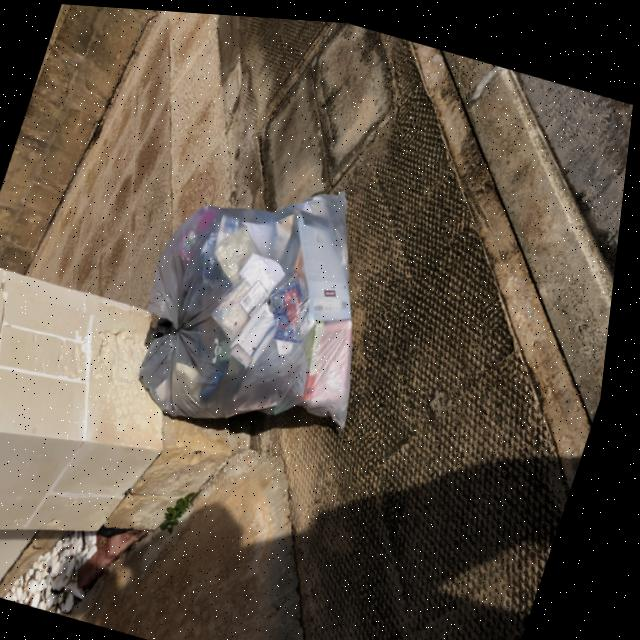Recycled Waste -Grey or Green Bag-: (108, 135, 432, 465)
